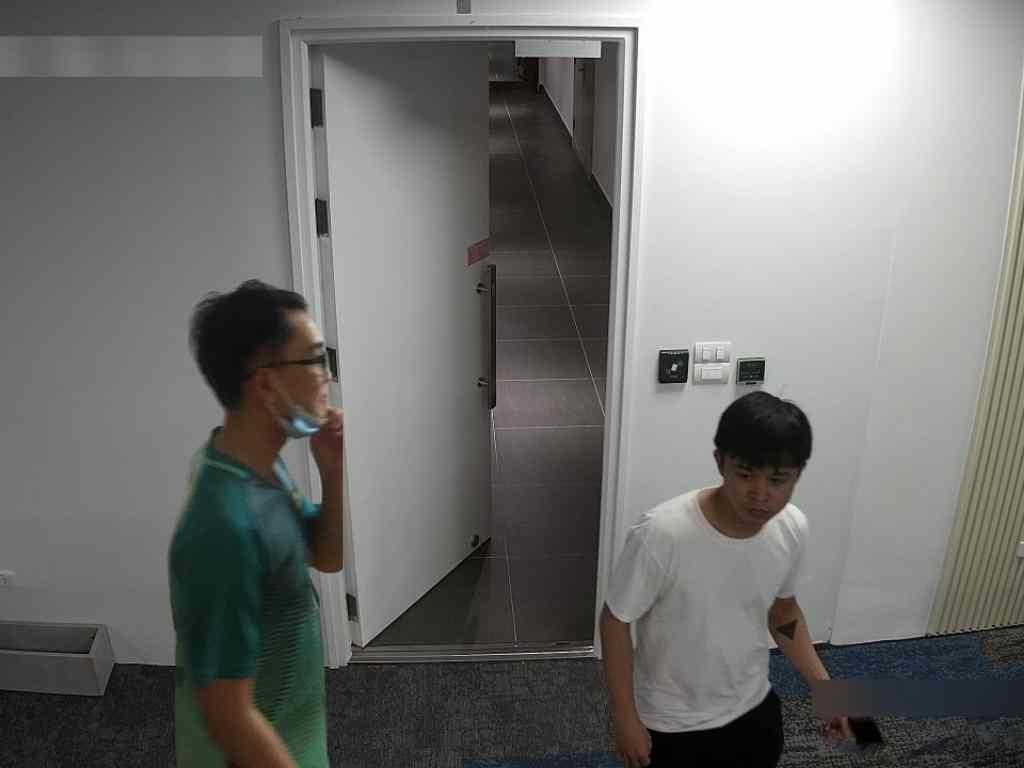no_apron: (294, 391, 370, 512), (598, 700, 663, 768)
no_gloves: (190, 264, 326, 430), (688, 381, 834, 488)
no_hairnet: (253, 295, 346, 439), (709, 425, 803, 526)
